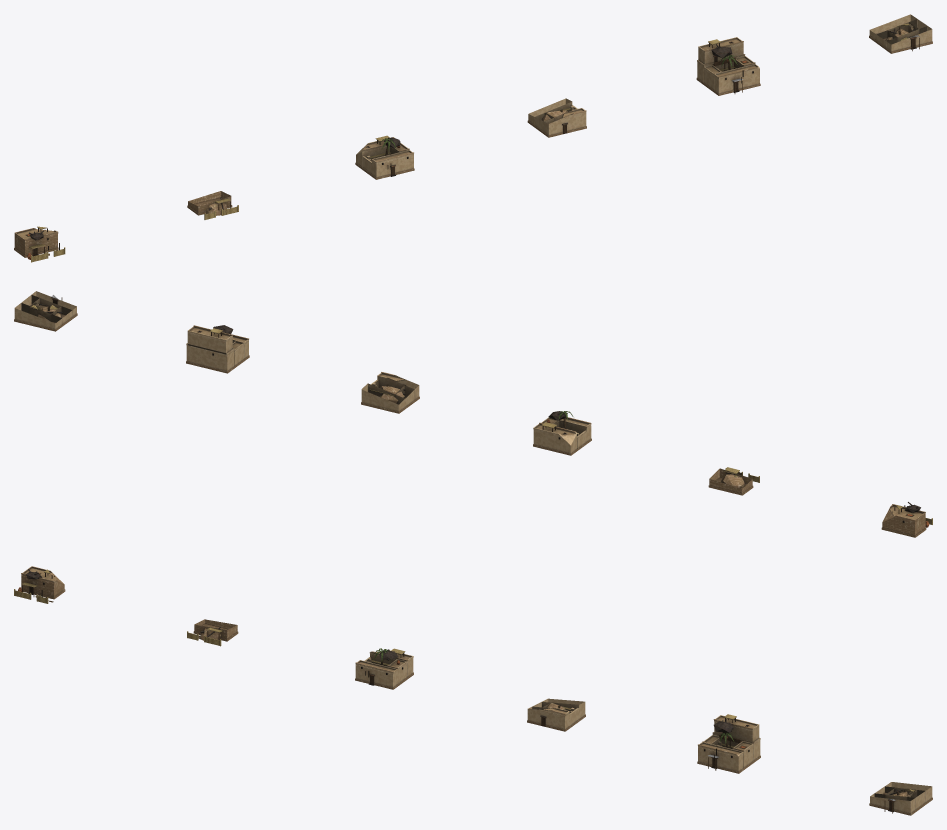
The model's file is bronze-mesopotamia-houses-damage.glb.
3 views of the same model, one above another, from view 1: azimuth 30°, elevation 25°; view 2: azimuth 150°, elevation 25°; view 3: azimuth 330°, elevation 25° (orthographic).
Visible parts, largest first — view 1: LOD0.004, LOD0.002, LOD0.005, LOD0.003, LOD0, LOD0.001; view 2: LOD0.004, LOD0.002, LOD0.003, LOD0.005, LOD0, LOD0.001; view 3: LOD0.004, LOD0.002, LOD0.005, LOD0.003, LOD0, LOD0.001.
Part boxes in pixels (left/top/right/bottom): LOD0.004: left=696, top=37, right=760, bottom=95; LOD0.002: left=355, top=135, right=414, bottom=179; LOD0.005: left=869, top=14, right=932, bottom=53; LOD0.003: left=527, top=98, right=586, bottom=137; LOD0: left=14, top=226, right=65, bottom=262; LOD0.001: left=187, top=191, right=238, bottom=219; LOD0.004: left=186, top=325, right=249, bottom=373; LOD0.002: left=533, top=411, right=591, bottom=455; LOD0.003: left=361, top=372, right=419, bottom=413; LOD0.005: left=14, top=291, right=77, bottom=331; LOD0: left=881, top=502, right=932, bottom=537; LOD0.001: left=708, top=467, right=759, bottom=495; LOD0.004: left=697, top=714, right=760, bottom=773; LOD0.002: left=355, top=648, right=413, bottom=689; LOD0.005: left=869, top=782, right=932, bottom=815; LOD0.003: left=527, top=698, right=585, bottom=731; LOD0: left=14, top=566, right=65, bottom=603; LOD0.001: left=187, top=619, right=238, bottom=646.
Size of what is drawn, in the model's own units: 15.68 by 0.618 by 0.754.
2 materials, 2 textured.
